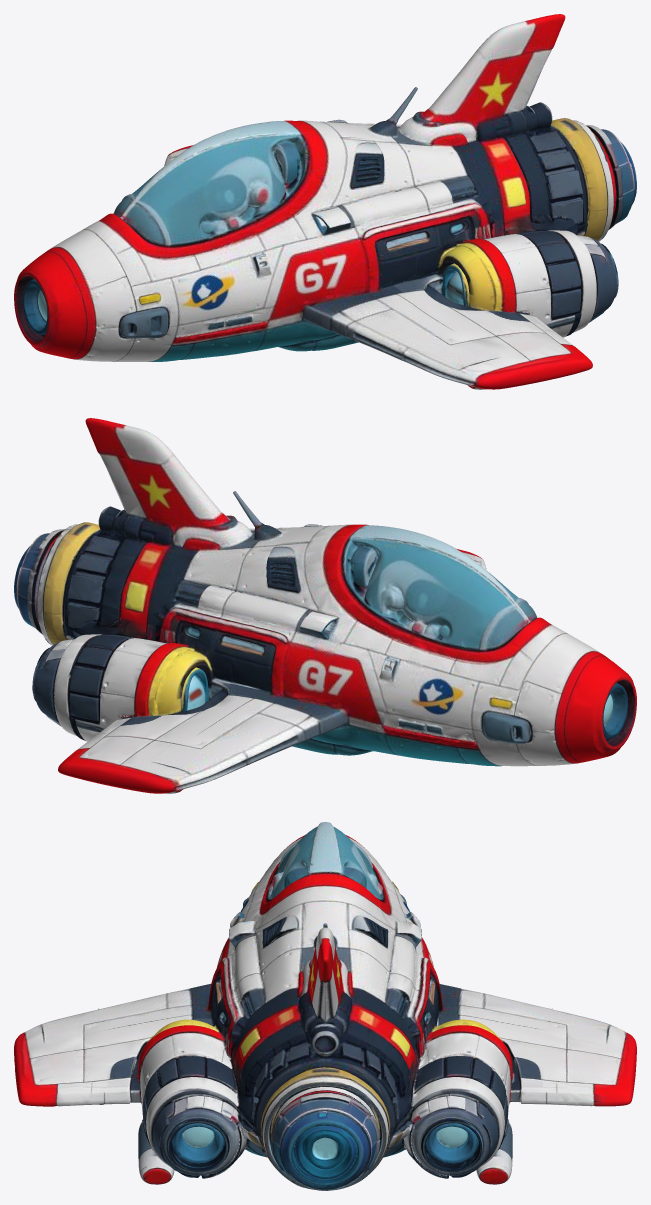
File: voyager.glb
3 renders of one model, top to bottom at view 1: azimuth 30°, elevation 25°; view 2: azimuth 150°, elevation 25°; view 3: azimuth 270°, elevation 25°, orthographic.
Size of the model in its own units: 1.9 by 0.8351 by 1.77.
Materials: 1 (1 with a texture image).
